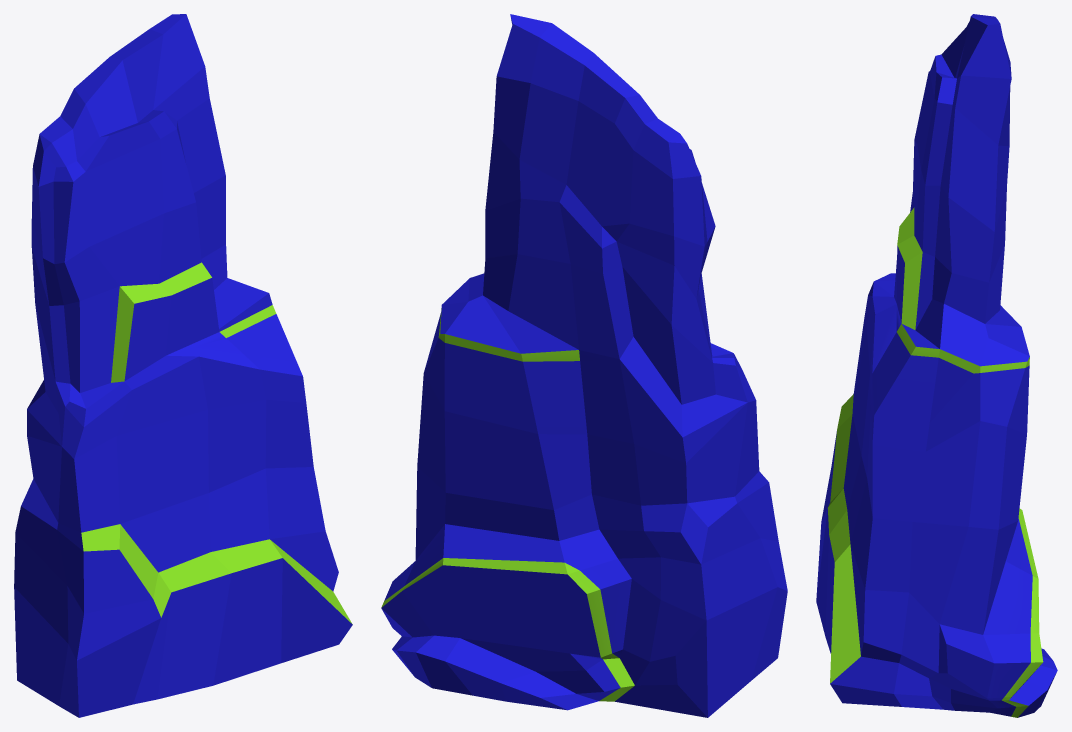
The model's file is rocasmejoradas4.fbx.
3 views of the same model, side by side, from view 1: azimuth 30°, elevation 25°; view 2: azimuth 150°, elevation 25°; view 3: azimuth 270°, elevation 25° (orthographic). The views are drawn at different scales.
Parts seen in each view (by area): view 1: Roca3; view 2: Roca3; view 3: Roca3.
Part boxes in pixels (left/top/right/bottom): Roca3: left=14, top=14, right=352, bottom=717; Roca3: left=381, top=14, right=787, bottom=717; Roca3: left=816, top=14, right=1057, bottom=717.
Size of the model in its own units: 6.71 by 13.84 by 4.57.
